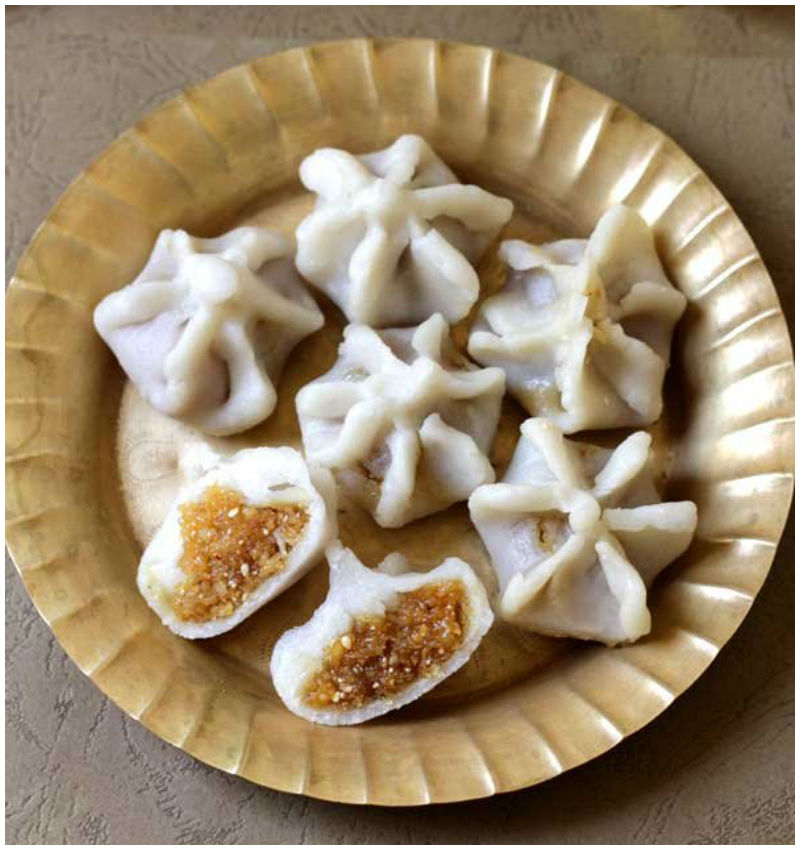modak: (473, 439, 691, 642), (479, 227, 698, 422), (104, 236, 322, 417), (293, 141, 516, 312), (300, 346, 530, 494)
